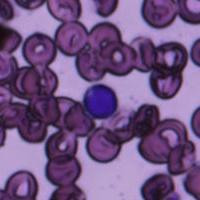L: (83, 84, 118, 118)
